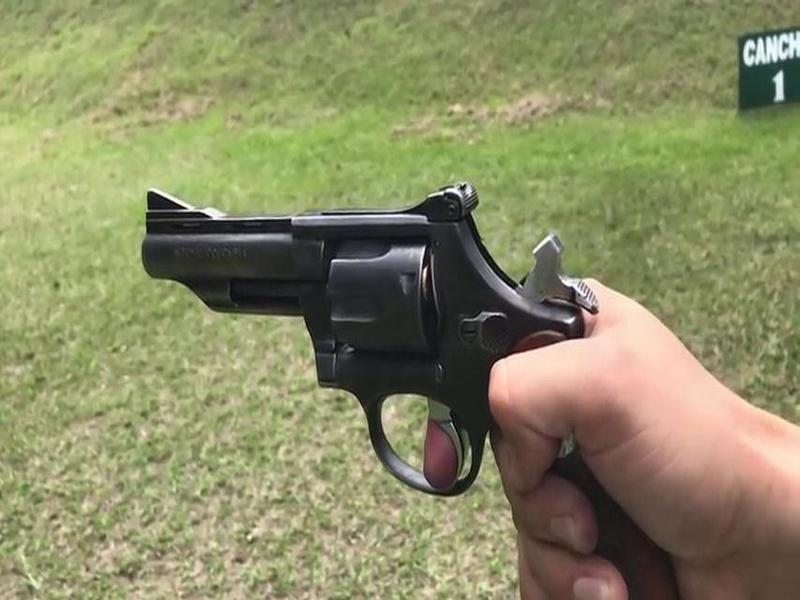Revolver: (142, 177, 623, 529)
